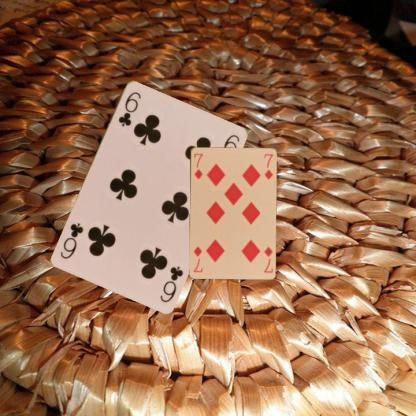6c: (157, 262, 184, 304), (115, 89, 142, 128)
7d: (261, 244, 274, 273), (192, 150, 204, 180)
